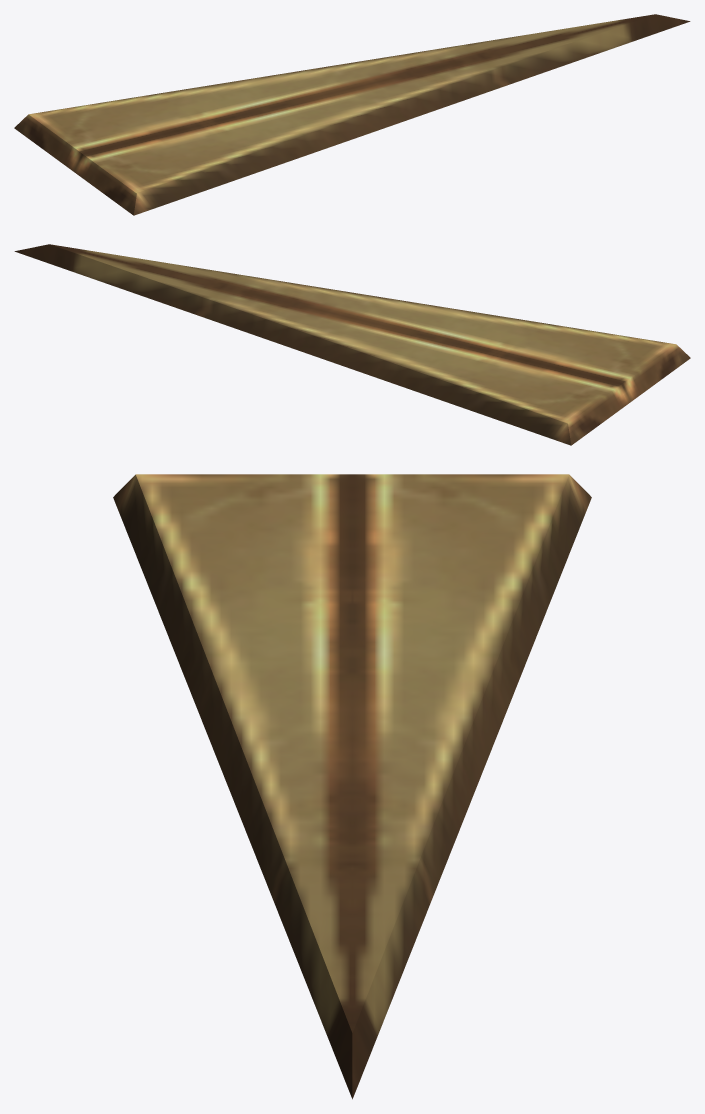
The model's file is G_tuan002.fbx.
3 views of the same model, one above another, from view 1: azimuth 30°, elevation 25°; view 2: azimuth 150°, elevation 25°; view 3: azimuth 270°, elevation 25° (orthographic). The views are drawn at different scales.
Parts seen in each view (by area): view 1: G_tuan002; view 2: G_tuan002; view 3: G_tuan002.
Boxes of the visible parts, box(x1,y1,x2,y2) form: G_tuan002: box(14, 14, 690, 215); G_tuan002: box(14, 244, 690, 445); G_tuan002: box(113, 474, 591, 1099).
Size of the model in its own units: 323 by 7.9 by 109.
